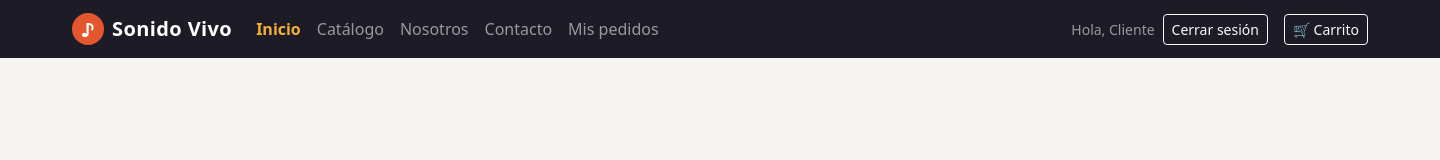
it: Organismo Navbar › 'Cerrar sesión' borra la sesión
Click the button "Cerrar sesión": (1215, 29) x1=1163 y1=14 x2=1268 y2=44
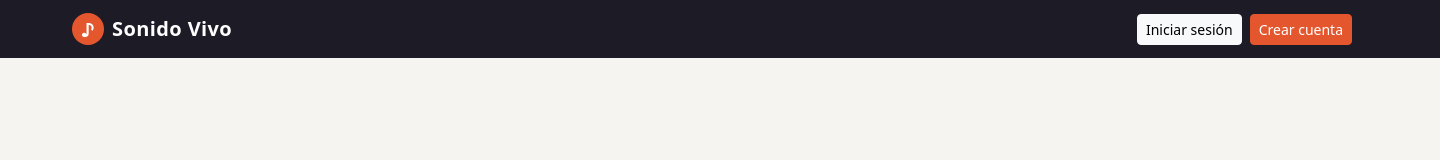
Check: the link "Iniciar sesión" is shown, box x1=1137 y1=14 x2=1242 y2=44
